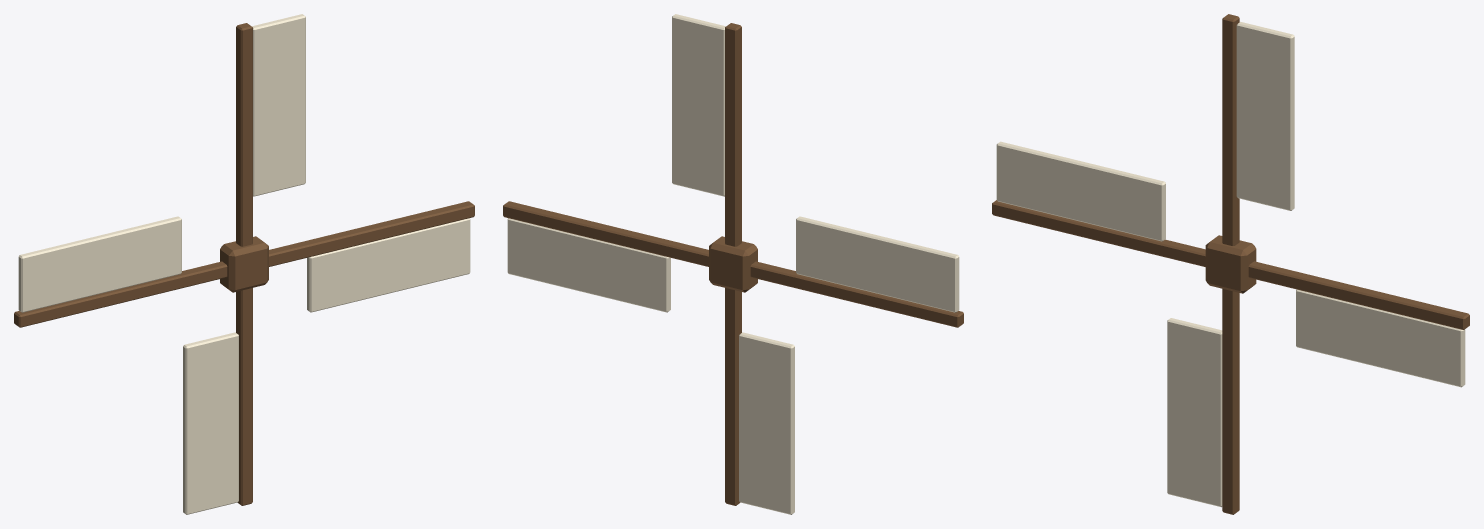
File: ns-windmill-sails.glb
3 views of the same model, side by side, from view 1: azimuth 30°, elevation 25°; view 2: azimuth 150°, elevation 25°; view 3: azimuth 330°, elevation 25° (orthographic). The views are drawn at different scales.
Visible parts, largest first — view 1: Cube; view 2: Cube; view 3: Cube.
Boxes of the visible parts, x1=… form: Cube: x1=14, y1=14, x2=474, y2=514; Cube: x1=503, y1=14, x2=963, y2=514; Cube: x1=992, y1=14, x2=1469, y2=514.
Bounding box in the file's own units: 0.68 × 0.68 × 0.035.
